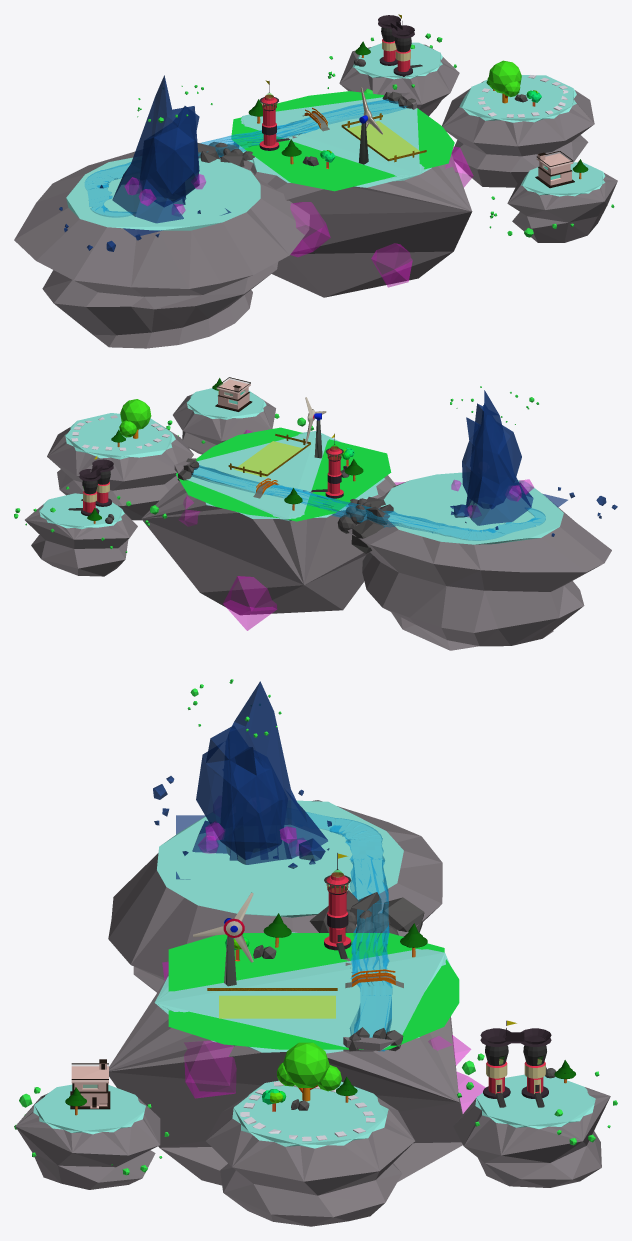
3 views of the same model, one above another, from view 1: azimuth 30°, elevation 25°; view 2: azimuth 150°, elevation 25°; view 3: azimuth 270°, elevation 25° (orthographic). The views are drawn at different scales.
Parts seen in each view (by area): view 1: Cylinder.001, Cube.003, Cylinder.002, Plane.006, Plane.003, Cylinder.004, Cylinder.003, Cube.001, Sphere.005, Cylinder.008, Plane.008, Plane.005 (+3 smaller); view 2: Cylinder.001, Cube.003, Cylinder.002, Plane.006, Cylinder.003, Plane.003, Cube.001, Cylinder.004, Sphere.005, Cylinder.008, Plane.008, Plane.005 (+4 smaller); view 3: Cube.003, Cylinder.001, Cylinder.002, Plane.006, Plane.003, Cylinder.003, Cylinder.004, Cube.001, Sphere.005, Cylinder.008, Plane.008, Cylinder.012 (+5 smaller).
Boxes of the visible parts, left/top/right/bottom form: Cylinder.001: left=14, top=151, right=309, bottom=348; Cube.003: left=233, top=92, right=472, bottom=297; Cylinder.002: left=442, top=75, right=594, bottom=187; Plane.006: left=59, top=75, right=231, bottom=251; Plane.003: left=231, top=91, right=454, bottom=191; Cylinder.004: left=507, top=162, right=617, bottom=242; Cylinder.003: left=339, top=42, right=459, bottom=116; Cube.001: left=84, top=99, right=407, bottom=217; Sphere.005: left=290, top=146, right=473, bottom=287; Cylinder.008: left=378, top=15, right=422, bottom=76; Plane.008: left=347, top=121, right=419, bottom=158; Plane.005: left=535, top=151, right=574, bottom=188; Cylinder.001: left=347, top=472, right=611, bottom=650; Cube.003: left=141, top=431, right=396, bottom=615; Cylinder.002: left=47, top=413, right=193, bottom=520; Plane.006: left=450, top=390, right=617, bottom=536; Cylinder.003: left=25, top=493, right=137, bottom=576; Plane.003: left=176, top=427, right=391, bottom=521; Cube.001: left=191, top=465, right=545, bottom=540; Cylinder.004: left=173, top=388, right=275, bottom=454; Sphere.005: left=178, top=430, right=404, bottom=630; Cylinder.008: left=68, top=459, right=113, bottom=515; Plane.008: left=234, top=441, right=302, bottom=477; Plane.005: left=215, top=377, right=252, bottom=411; Cube.003: left=109, top=932, right=462, bottom=1185; Cylinder.001: left=108, top=800, right=442, bottom=992; Cylinder.002: left=206, top=1080, right=414, bottom=1226; Plane.006: left=153, top=681, right=331, bottom=879; Plane.003: left=168, top=933, right=459, bottom=1049; Cylinder.003: left=453, top=1074, right=610, bottom=1187; Cylinder.004: left=15, top=1084, right=160, bottom=1189; Cube.001: left=306, top=812, right=392, bottom=1051; Sphere.005: left=162, top=961, right=485, bottom=1113; Cylinder.008: left=480, top=1028, right=551, bottom=1107; Plane.008: left=219, top=995, right=335, bottom=1018; Cylinder.012: left=277, top=1042, right=341, bottom=1101.
Size of the model in its own units: 6.66 by 2.97 by 4.38.
